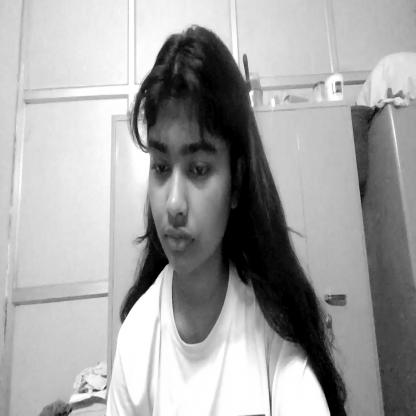Distracted: (136, 26, 245, 287)
